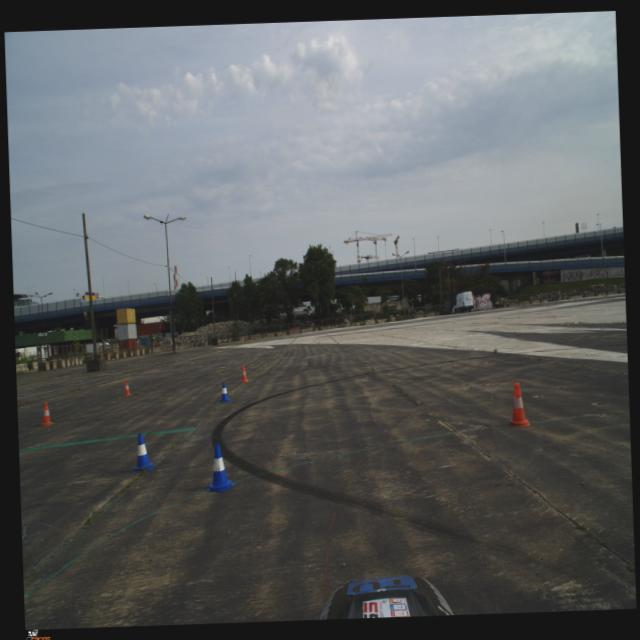blue_cone: (203, 442, 235, 492), (131, 432, 155, 473), (218, 381, 231, 402)
orange_cone: (506, 382, 530, 426), (38, 402, 54, 426), (122, 379, 132, 396), (240, 364, 248, 382)
